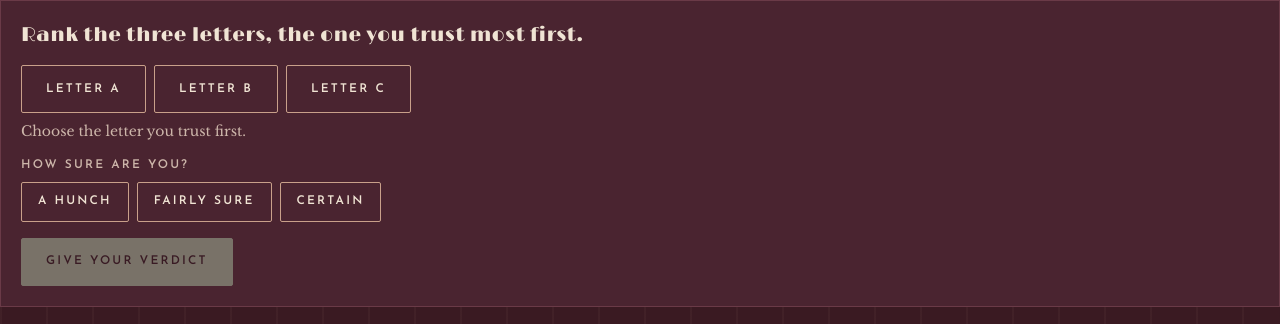
Test: the verdict panel › takes a ranking one letter at a time, and can start again
The image size is (1280, 324).
Click the button "Letter C" at (348, 89), box [286,65,411,113]
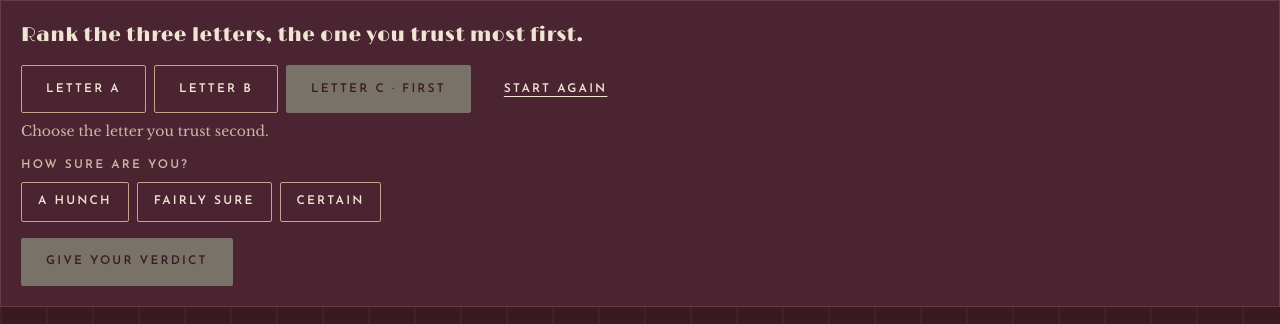
Click the button "Letter A" at (83, 89), box [21,65,146,113]
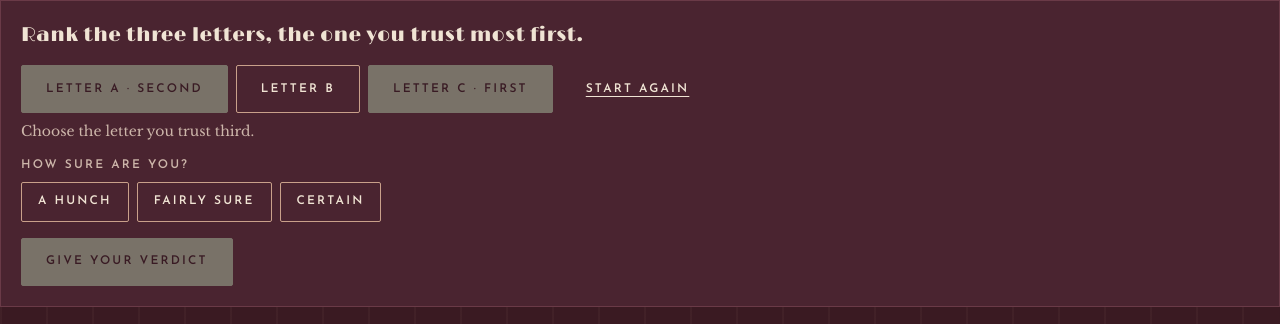
Click the button "Fairly sure" at (204, 202), box [137,182,272,222]
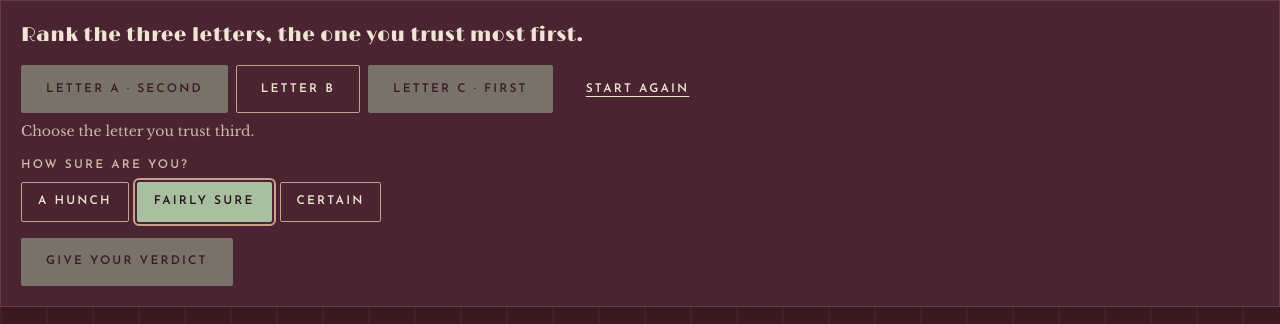
Expected: the button "Give your verdict" is disabled, [21,238,233,286]
Click the button "Letter B" at (298, 89), box [236,65,360,113]
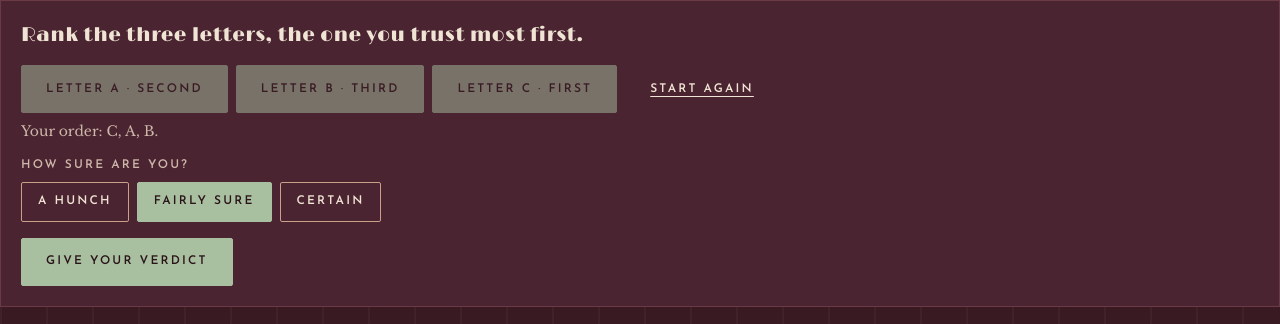
Expected: the text "Your order: C, A, B." is shown, [21,122,158,140]
Click the button "Give your verdict" at (127, 262), box [21,238,233,286]
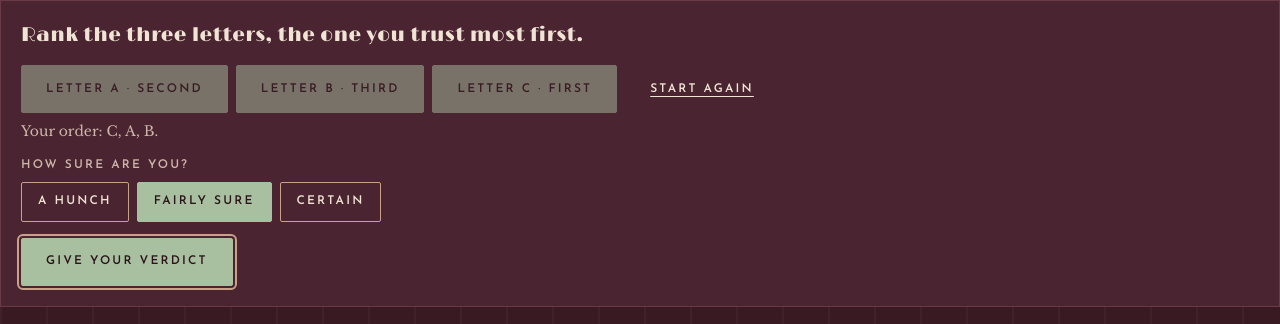
Click the button "Start again" at (702, 89), box [625,65,779,113]
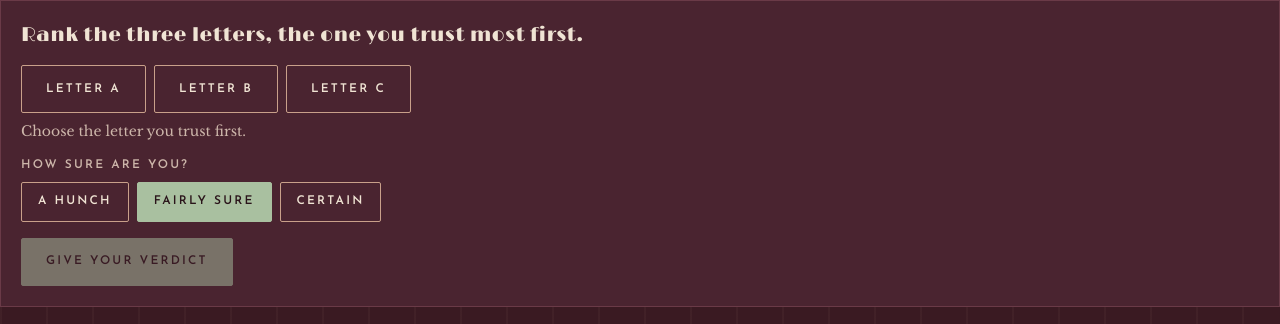
Expected: the button "Give your verdict" is disabled, [21,238,233,286]
